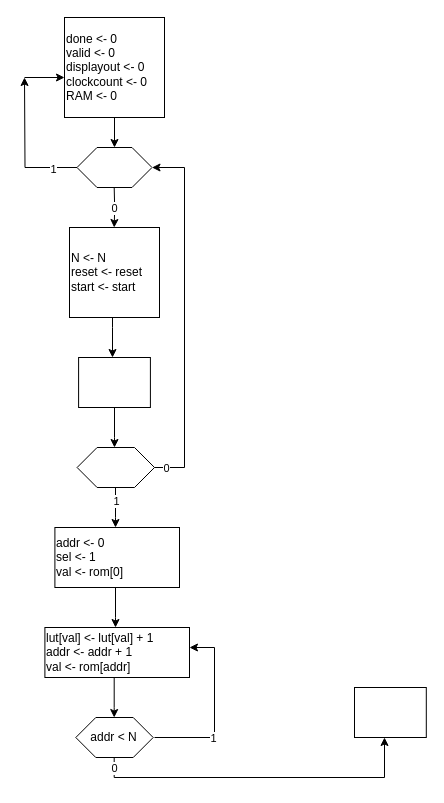
Some shapes in this 444 by 803 pixel diagram are drawn without their labels. Each missing label, with the centre of its shape:
"reset" belongs at point 114,167.
"sel <- 0 addr <- 0" belongs at point 390,712.
"start" belongs at point 115,467.
